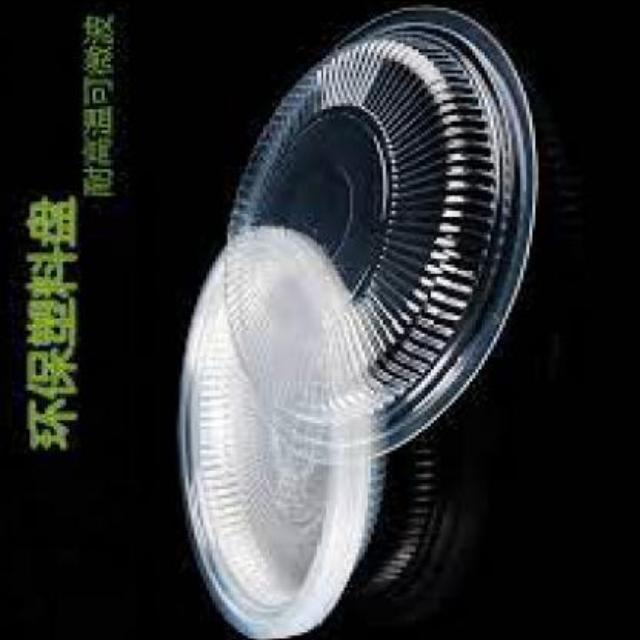plastic_box: (226, 2, 538, 464)
